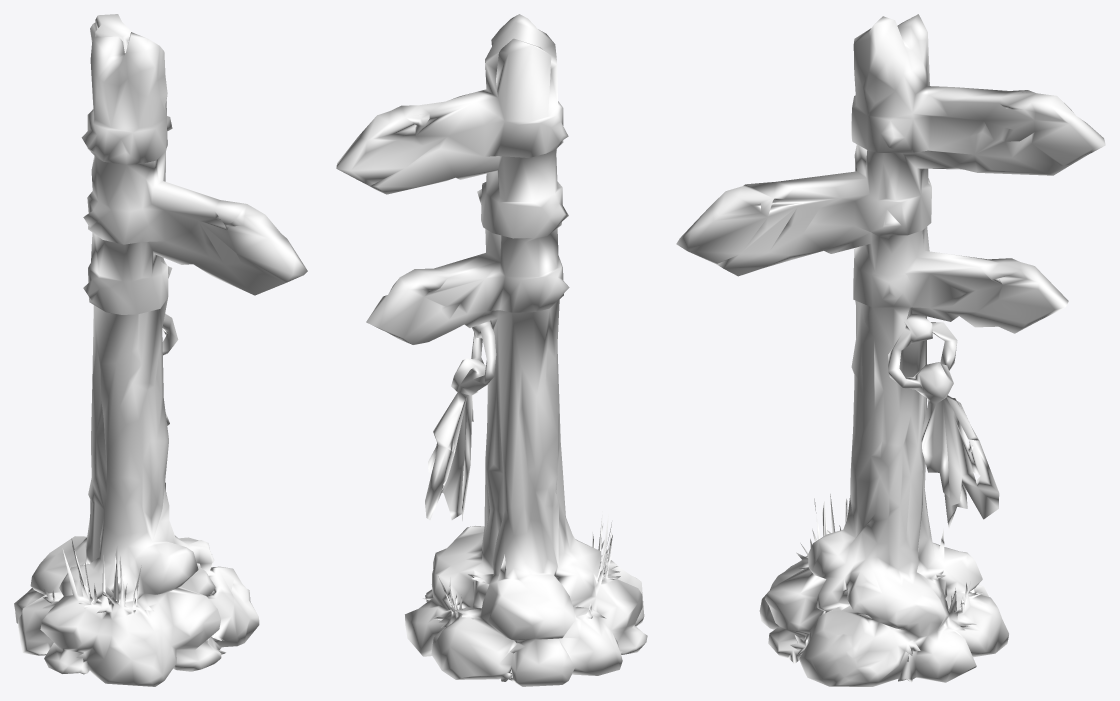
The model's file is signpost.glb.
3 renders of one model, left to right at view 1: azimuth 30°, elevation 25°; view 2: azimuth 150°, elevation 25°; view 3: azimuth 270°, elevation 25°, orthographic. The views are drawn at different scales.
Parts seen in each view (by area): view 1: signpost; view 2: signpost; view 3: signpost.
Boxes of the visible parts, x1,y1,x2,y2 form: signpost: (14,14,307,686); signpost: (336,14,647,686); signpost: (676,14,1105,686).
Size of the model in its own units: 0.9065 by 2.6 by 1.62.
Materials: 1 (1 with a texture image).
